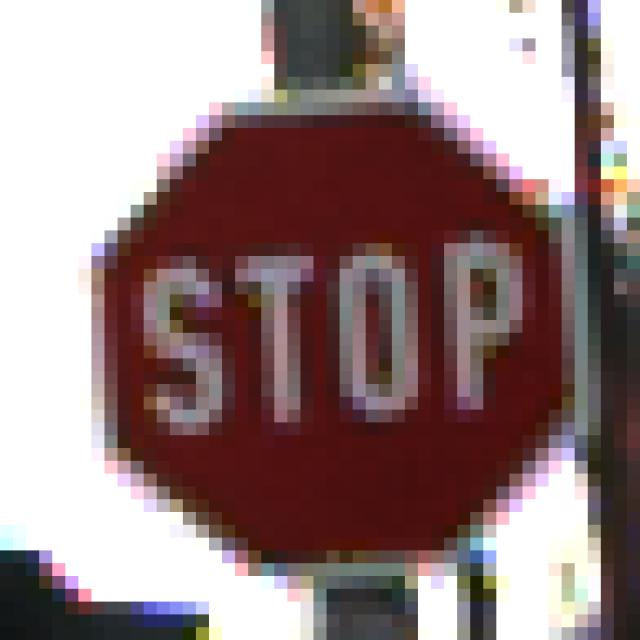STOP: (66, 65, 576, 564)
